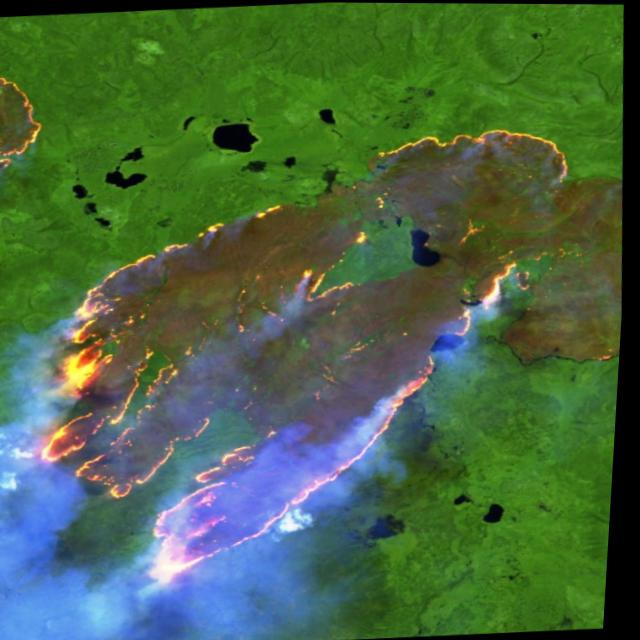fire: (16, 119, 597, 596), (0, 62, 55, 184)
